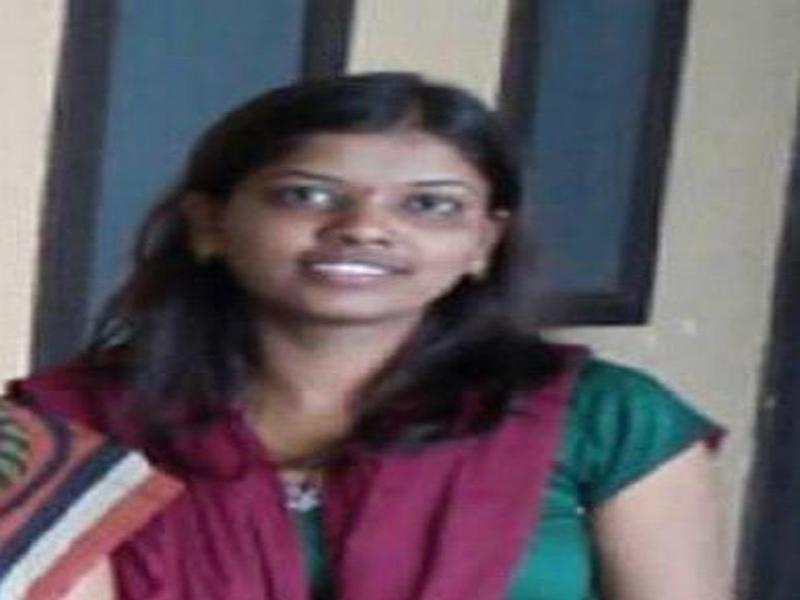without_mask: (223, 138, 485, 316)
